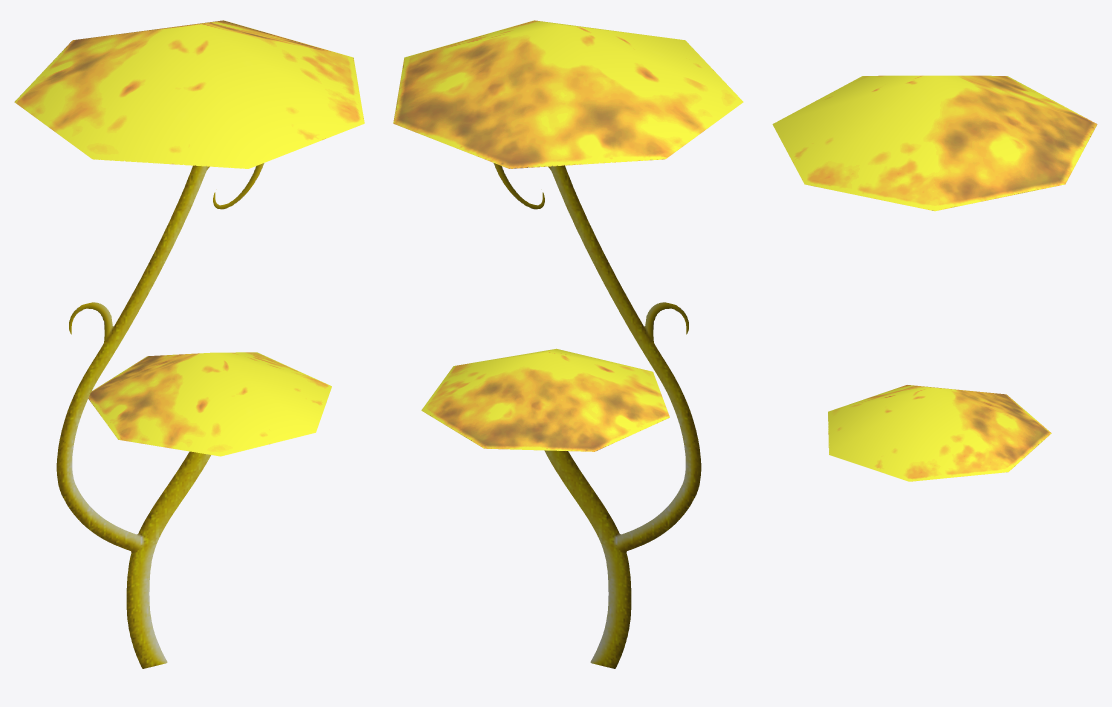
File: Mushroom_A_v7.fbx
3 renders of one model, left to right at view 1: azimuth 30°, elevation 25°; view 2: azimuth 150°, elevation 25°; view 3: azimuth 270°, elevation 25°, orthographic. The views are drawn at different scales.
Visible parts, largest first — view 1: pCone3; view 2: pCone3; view 3: pCone3.
Boxes of the visible parts, x1,y1,x2,y2 form: pCone3: [14, 20, 364, 668]; pCone3: [393, 20, 743, 668]; pCone3: [772, 75, 1097, 481].
Size of the model in its own units: 2.59 by 5.06 by 2.56.
